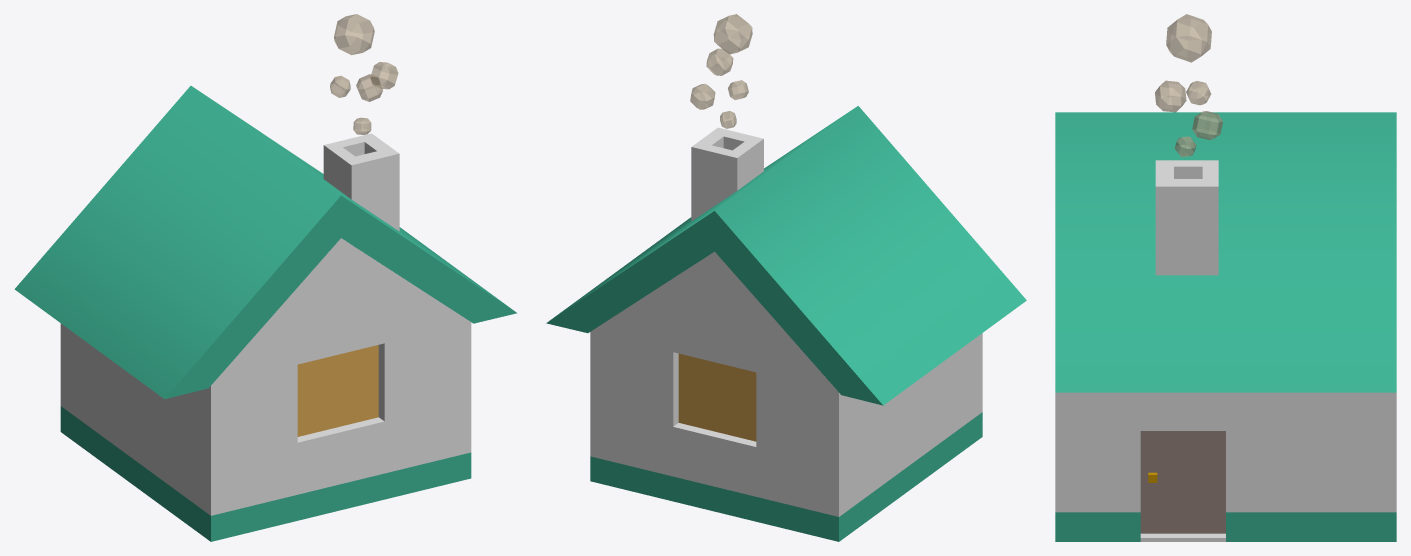
File: TealWhiteHouseSmoke.fbx
The picture shows the model from 3 angles, left to right: view 1: azimuth 30°, elevation 25°; view 2: azimuth 150°, elevation 25°; view 3: azimuth 270°, elevation 25°; orthographic projection. The views are drawn at different scales.
Parts seen in each view (by area): view 1: geo_Base, geo_roof, geo_Chimney, pCube5, pCube4; view 2: geo_Base, geo_roof, geo_Chimney, pCube5, pCube4; view 3: geo_roof, geo_Base, geo_Chimney, pCube5, pCube4, pCube2, pCube3.
Boxes of the visible parts, x1,y1,x2,y2 form: geo_Base: [60, 238, 471, 541]; geo_roof: [14, 85, 517, 399]; geo_Chimney: [323, 133, 399, 231]; pCube5: [334, 14, 374, 55]; pCube4: [370, 62, 398, 89]; geo_Base: [590, 251, 982, 541]; geo_roof: [546, 106, 1026, 405]; geo_Chimney: [691, 127, 763, 221]; pCube5: [713, 14, 752, 54]; pCube4: [706, 48, 733, 75]; geo_roof: [1055, 112, 1396, 392]; geo_Base: [1055, 392, 1396, 541]; geo_Chimney: [1155, 160, 1218, 275]; pCube5: [1166, 14, 1211, 62]; pCube4: [1155, 80, 1186, 112]; pCube2: [1192, 111, 1222, 139]; pCube3: [1186, 81, 1211, 105].
Size of the model in its own units: 266 by 313 by 197.
